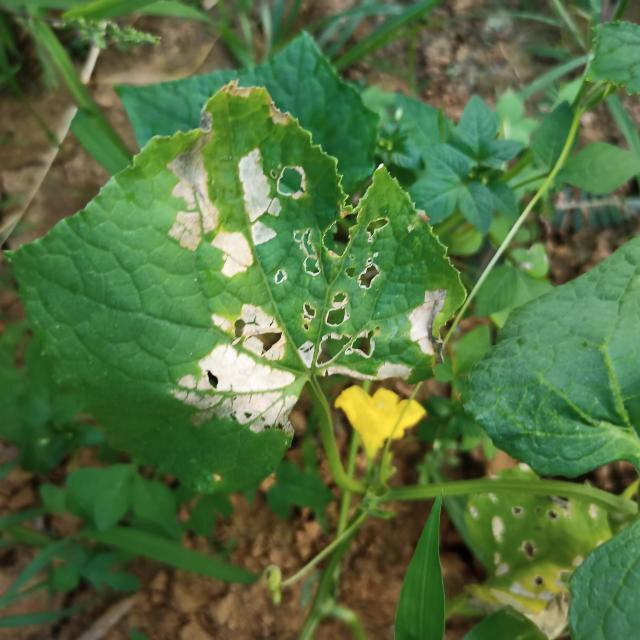disease_cucumber: (165, 75, 385, 293), (160, 288, 447, 448)
